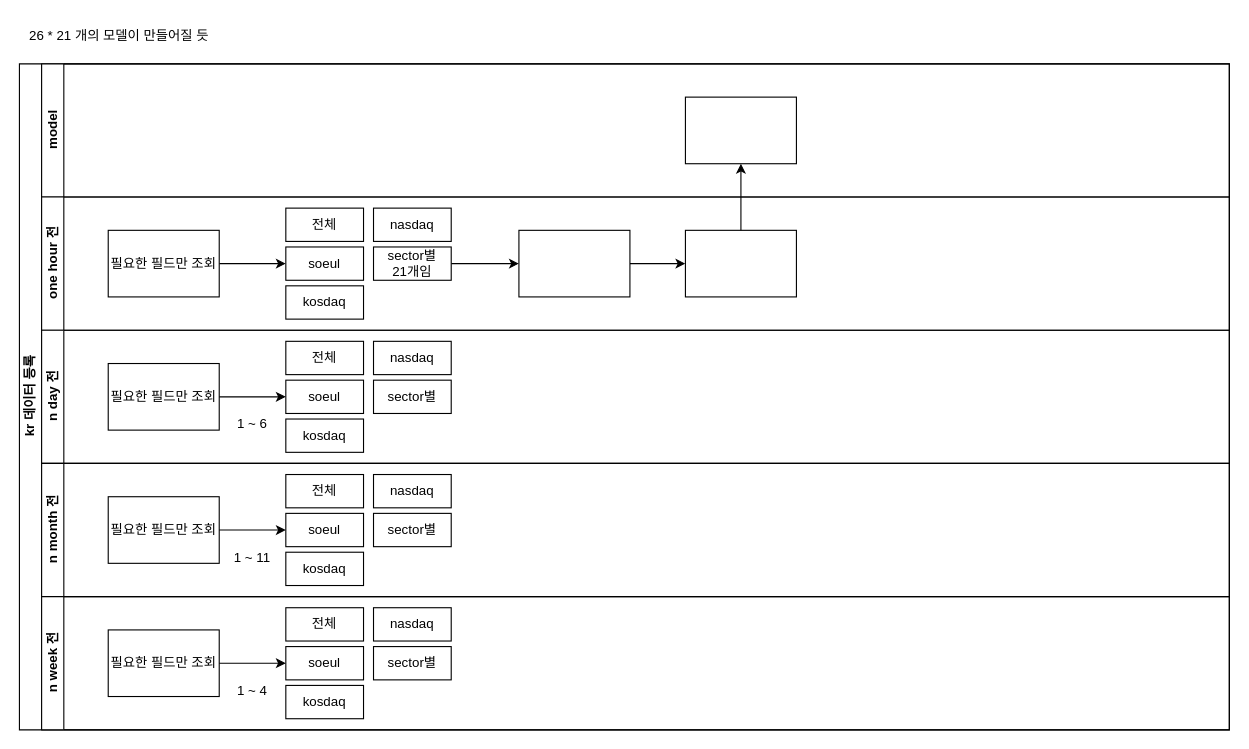
This 1249x749 diagram has some shape labels left out. The centre of each missing label's shape, as x and y in pixels:
"모델" belongs at (740,263).
"저장" belongs at (740,130).
"학습" belongs at (574,263).
